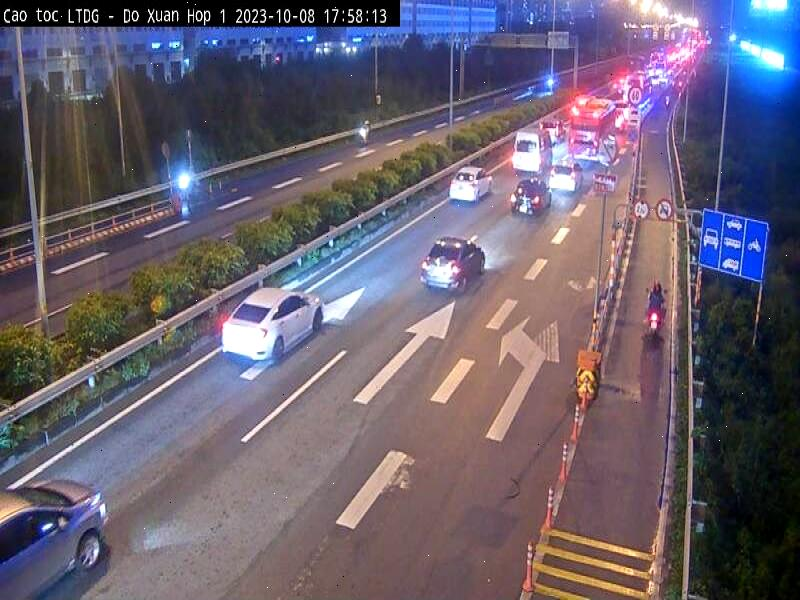bus: (568, 102, 614, 164)
car: (1, 474, 115, 600), (209, 278, 334, 366), (418, 216, 484, 299), (508, 172, 556, 221), (509, 122, 555, 172), (446, 156, 490, 206), (548, 150, 586, 202)
motorcycle: (644, 300, 666, 338)
